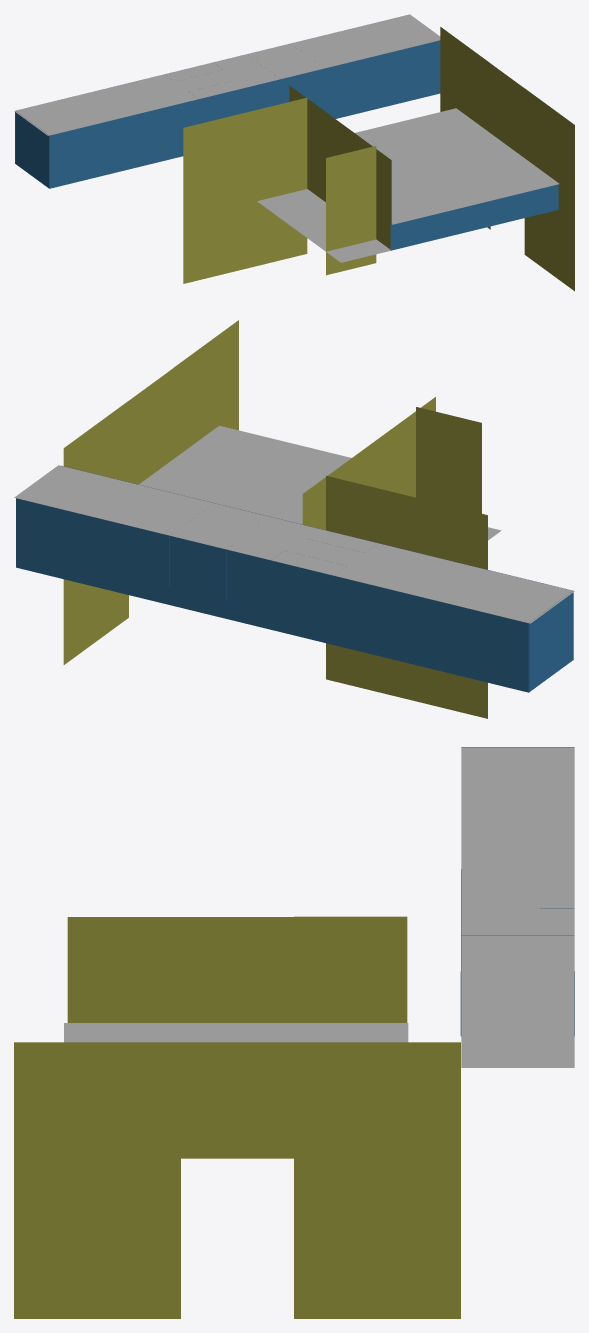
Rendered from Walls.fbx.
3 renders of one model, top to bottom at view 1: azimuth 30°, elevation 25°; view 2: azimuth 150°, elevation 25°; view 3: azimuth 270°, elevation 25°, orthographic. The views are drawn at different scales.
Visible parts, largest first — view 1: OutdoorWall9, IndoorWall14, Ceiling, CeilingLower, OutdoorWall16, GreenWall, IndoorWall11, OutdoorWall15, OutdoorWall17, IndoorWall3, OutdoorWall11, OutdoorWall12 (+7 smaller); view 2: IndoorWall, Ceiling, OutdoorWall9, CeilingLower, OutdoorWall15, OutdoorWall16, GreenWall, OutdoorWall17, IndoorWall3, OutdoorWall12, OutdoorWallDoor, OutdoorWall11; view 3: OutdoorWall15, OutdoorWall16, Ceiling, OutdoorWall17, OutdoorWall11, OutdoorWall12, OutdoorWallDoor, CeilingLower.
Boxes of the visible parts, x1,y1,x2,y2 form: OutdoorWall9: [183, 97, 307, 283]; IndoorWall14: [49, 40, 440, 188]; Ceiling: [14, 14, 440, 135]; CeilingLower: [355, 108, 559, 224]; OutdoorWall16: [524, 88, 574, 291]; GreenWall: [326, 146, 376, 275]; IndoorWall11: [390, 184, 558, 250]; OutdoorWall15: [440, 27, 490, 229]; OutdoorWall17: [490, 64, 524, 157]; IndoorWall3: [15, 111, 49, 188]; OutdoorWall11: [289, 85, 323, 200]; OutdoorWall12: [357, 135, 391, 249]; IndoorWall: [16, 498, 529, 692]; Ceiling: [14, 465, 574, 623]; OutdoorWall9: [326, 475, 487, 718]; CeilingLower: [139, 425, 351, 524]; OutdoorWall15: [63, 401, 128, 664]; OutdoorWall16: [173, 320, 238, 458]; GreenWall: [416, 407, 481, 513]; OutdoorWall17: [129, 368, 173, 484]; IndoorWall3: [528, 591, 573, 692]; OutdoorWall12: [391, 397, 435, 497]; OutdoorWallDoor: [347, 429, 391, 491]; OutdoorWall11: [302, 462, 346, 530]; OutdoorWall15: [294, 1042, 460, 1318]; OutdoorWall16: [14, 1042, 180, 1318]; Ceiling: [461, 747, 574, 1067]; OutdoorWall17: [181, 1042, 294, 1158]; OutdoorWall11: [294, 916, 407, 1022]; OutdoorWall12: [67, 917, 180, 1022]; OutdoorWallDoor: [180, 917, 293, 1022]; CeilingLower: [64, 1023, 408, 1042].
Bounding box in the file's own units: 67.07 × 26.95 × 49.52.
